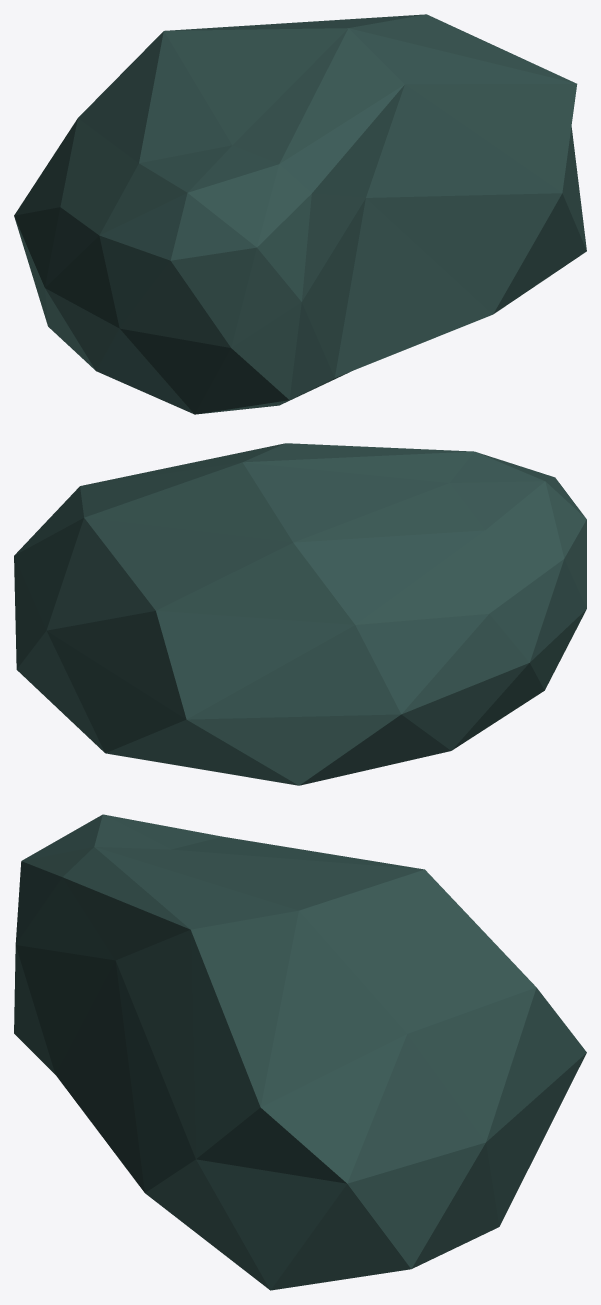
Rendered from stone001.fbx.
The picture shows the model from 3 angles, top to bottom: view 1: azimuth 30°, elevation 25°; view 2: azimuth 150°, elevation 25°; view 3: azimuth 270°, elevation 25°; orthographic projection. The views are drawn at different scales.
Parts seen in each view (by area): view 1: stone001; view 2: stone001; view 3: stone001.
Part boxes in pixels (box(x1,y1,x2,y2)): stone001: box(14, 14, 586, 414); stone001: box(14, 443, 586, 785); stone001: box(14, 814, 586, 1290).
Size of the model in its own units: 134 by 68.28 by 117.
